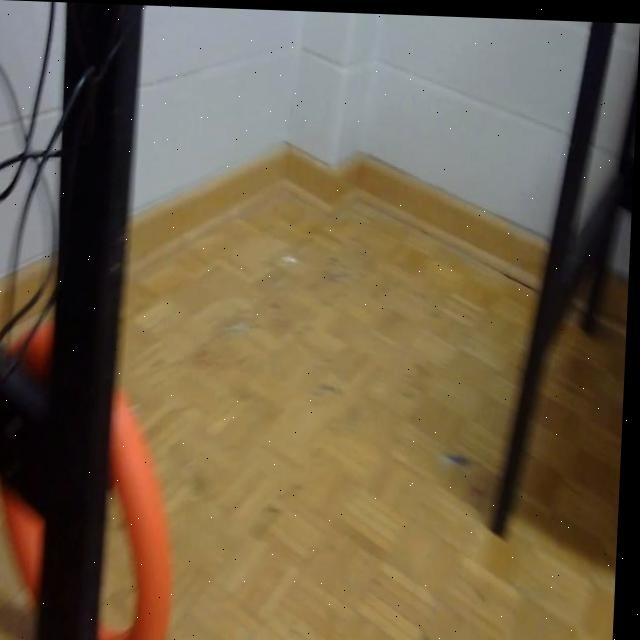note: (0, 315, 189, 640)
